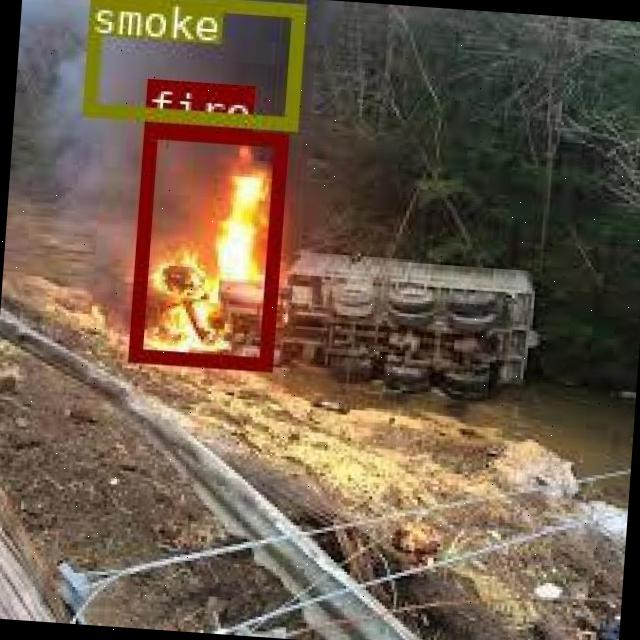fire: (128, 124, 285, 368)
smoke: (80, 0, 303, 127)
